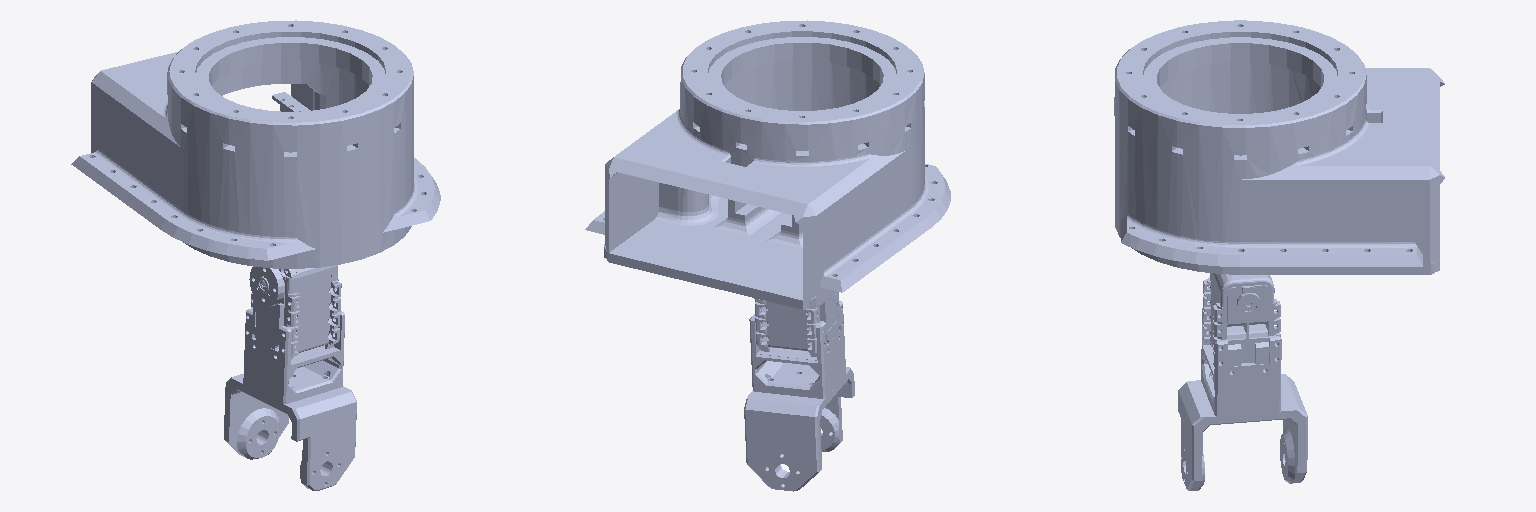
robot.urdf — simple_robot_v2:
<?xml version="1.0" encoding="utf-8"?>
<!-- This URDF was automatically created by SolidWorks to URDF Exporter! Originally created by [author] ([email redacted]) 
     Commit Version: 1.6.0-4-g7f85cfe  Build Version: 1.6.7995.38578
     For more information, please see http://wiki.ros.org/sw_urdf_exporter -->
<robot
  name="simple_robot_v2">
  <link
    name="FixedBase">
    <inertial>
      <origin
        xyz="-0.008662 6.915E-09 0.034203"
        rpy="0 0 0" />
      <mass
        value="0.49574" />
      <inertia
        ixx="0.0011079"
        ixy="1.4362E-10"
        ixz="-3.7324E-05"
        iyy="0.0011344"
        iyz="-8.7399E-11"
        izz="0.0016547" />
    </inertial>
    <visual>
      <origin
        xyz="0 0 0"
        rpy="0 0 0" />
      <geometry>
        <mesh
          filename="package://simple_robot_v2/meshes/FixedBase.STL" />
      </geometry>
      <material
        name="">
        <color
          rgba="0.79216 0.81961 0.93333 1" />
      </material>
    </visual>
    <collision>
      <origin
        xyz="0 0 0"
        rpy="0 0 0" />
      <geometry>
        <mesh
          filename="package://simple_robot_v2/meshes/FixedBase.STL" />
      </geometry>
    </collision>
  </link>
  <link
    name="RotatingBaseLink">
    <inertial>
      <origin
        xyz="-1.0615E-08 1.3952E-09 0.05044"
        rpy="0 0 0" />
      <mass
        value="0.24905" />
      <inertia
        ixx="0.00030195"
        ixy="6.1355E-07"
        ixz="2.7299E-11"
        iyy="0.0002068"
        iyz="4.0363E-11"
        izz="0.00019603" />
    </inertial>
    <visual>
      <origin
        xyz="0 0 0"
        rpy="0 0 0" />
      <geometry>
        <mesh
          filename="package://simple_robot_v2/meshes/RotatingBaseLink.STL" />
      </geometry>
      <material
        name="">
        <color
          rgba="0.50196 0.50196 1 1" />
      </material>
    </visual>
    <collision>
      <origin
        xyz="0 0 0"
        rpy="0 0 0" />
      <geometry>
        <mesh
          filename="package://simple_robot_v2/meshes/RotatingBaseLink.STL" />
      </geometry>
    </collision>
  </link>
  <joint
    name="RotatingBaseJoint"
    type="revolute">
    <origin
      xyz="0 0 0.05"
      rpy="0 0 0" />
    <parent
      link="FixedBase" />
    <child
      link="RotatingBaseLink" />
    <axis
      xyz="0 0 -1" />
    <limit
      lower="2.0944"
      upper="3.8397"
      effort="0"
      velocity="0" />
  </joint>
  <link
    name="ShoulderLink">
    <inertial>
      <origin
        xyz="1.5118E-06 0.13231 0.0003468"
        rpy="0 0 0" />
      <mass
        value="0.12701" />
      <inertia
        ixx="0.00076308"
        ixy="1.1682E-08"
        ixz="8.706E-09"
        iyy="0.00010667"
        iyz="-3.3149E-06"
        izz="0.00067538" />
    </inertial>
    <visual>
      <origin
        xyz="0 0 0"
        rpy="0 0 0" />
      <geometry>
        <mesh
          filename="package://simple_robot_v2/meshes/ShoulderLink.STL" />
      </geometry>
      <material
        name="">
        <color
          rgba="0.79216 0.81961 0.93333 1" />
      </material>
    </visual>
    <collision>
      <origin
        xyz="0 0 0"
        rpy="0 0 0" />
      <geometry>
        <mesh
          filename="package://simple_robot_v2/meshes/ShoulderLink.STL" />
      </geometry>
    </collision>
  </link>
  <joint
    name="ShoulderJoint"
    type="revolute">
    <origin
      xyz="0 0 0.049"
      rpy="1.5708 0 0.0064475" />
    <parent
      link="RotatingBaseLink" />
    <child
      link="ShoulderLink" />
    <axis
      xyz="0 0 1" />
    <limit
      lower="2.0944"
      upper="4.18879"
      effort="0"
      velocity="0" />
  </joint>
  <link
    name="ElbowLink">
    <inertial>
      <origin
        xyz="0.00036697 0.055834 -0.0004101"
        rpy="0 0 0" />
      <mass
        value="0.083206" />
      <inertia
        ixx="9.1587E-05"
        ixy="-1.7788E-06"
        ixz="-2.7941E-07"
        iyy="2.5642E-05"
        iyz="2.0881E-06"
        izz="8.5875E-05" />
    </inertial>
    <visual>
      <origin
        xyz="0 0 0"
        rpy="0 0 0" />
      <geometry>
        <mesh
          filename="package://simple_robot_v2/meshes/ElbowLink.STL" />
      </geometry>
      <material
        name="">
        <color
          rgba="0.79216 0.81961 0.93333 1" />
      </material>
    </visual>
    <collision>
      <origin
        xyz="0 0 0"
        rpy="0 0 0" />
      <geometry>
        <mesh
          filename="package://simple_robot_v2/meshes/ElbowLink.STL" />
      </geometry>
    </collision>
  </link>
  <joint
    name="ElbowJoint"
    type="revolute">
    <origin
      xyz="0 0.2247 0.00104"
      rpy="0 0 0" />
    <parent
      link="ShoulderLink" />
    <child
      link="ElbowLink" />
    <axis
      xyz="0 0 1" />
    <limit
      lower="1.309"
      upper="5.06145"
      effort="0"
      velocity="0" />
  </joint>
  <link
    name="WristLink">
    <inertial>
      <origin
        xyz="-0.010184 -0.0007354 0.034941"
        rpy="0 0 0" />
      <mass
        value="0.053757" />
      <inertia
        ixx="1.8975E-05"
        ixy="3.4773E-08"
        ixz="4.7677E-06"
        iyy="2.5817E-05"
        iyz="2.3142E-07"
        izz="1.7812E-05" />
    </inertial>
    <visual>
      <origin
        xyz="0 0 0"
        rpy="0 0 0" />
      <geometry>
        <mesh
          filename="package://simple_robot_v2/meshes/WristLink.STL" />
      </geometry>
      <material
        name="">
        <color
          rgba="0.9098 0.44314 0.031373 1" />
      </material>
    </visual>
    <collision>
      <origin
        xyz="0 0 0"
        rpy="0 0 0" />
      <geometry>
        <mesh
          filename="package://simple_robot_v2/meshes/WristLink.STL" />
      </geometry>
    </collision>
  </link>
  <joint
    name="WristJoint"
    type="revolute">
    <origin
      xyz="0.00108 0.0935 -0.001"
      rpy="1.5708 0 1.5708" />
    <parent
      link="ElbowLink" />
    <child
      link="WristLink" />
    <axis
      xyz="0 0 -1" />
    <limit
      lower="2.618"
      upper="4.5379"
      effort="0"
      velocity="0" />
  </joint>
  <link
    name="PenLink">
    <inertial>
      <origin
        xyz="0.048807 0.037513 -0.0021456"
        rpy="0 0 0" />
      <mass
        value="0.081357" />
      <inertia
        ixx="2.8223E-05"
        ixy="-3.704E-06"
        ixz="-2.8914E-06"
        iyy="0.00024631"
        iyz="5.6477E-07"
        izz="0.00024327" />
    </inertial>
    <visual>
      <origin
        xyz="0 0 0"
        rpy="0 0 0" />
      <geometry>
        <mesh
          filename="package://simple_robot_v2/meshes/PenLink.STL" />
      </geometry>
      <material
        name="">
        <color
          rgba="0.50196 1 0.50196 1" />
      </material>
    </visual>
    <collision>
      <origin
        xyz="0 0 0"
        rpy="0 0 0" />
      <geometry>
        <mesh
          filename="package://simple_robot_v2/meshes/PenLink.STL" />
      </geometry>
    </collision>
  </link>
  <joint
    name="PenJoint"
    type="revolute">
    <origin
      xyz="0 -0.001 0.041"
      rpy="1.5708 0 0" />
    <parent
      link="WristLink" />
    <child
      link="PenLink" />
    <axis
      xyz="0 0 1" />
    <limit
      lower="1.4835"
      upper="3.8397"
      effort="0"
      velocity="0" />
  </joint>
  <link
    name="PenTipLink">
    <inertial>
      <origin
        xyz="1.2388E-08 -1.5096E-08 -0.0095156"
        rpy="0 0 0" />
      <mass
        value="0.00038082" />
      <inertia
        ixx="6.068E-09"
        ixy="2.1976E-14"
        ixz="1.8806E-14"
        iyy="6.0679E-09"
        iyz="-2.2912E-14"
        izz="1.8923E-09" />
    </inertial>
    <visual>
      <origin
        xyz="0 0 0"
        rpy="0 0 0" />
      <geometry>
        <mesh
          filename="package://simple_robot_v2/meshes/PenTipLink.STL" />
      </geometry>
      <material
        name="">
        <color
          rgba="0.50196 1 0.50196 1" />
      </material>
    </visual>
    <collision>
      <origin
        xyz="0 0 0"
        rpy="0 0 0" />
      <geometry>
        <mesh
          filename="package://simple_robot_v2/meshes/PenTipLink.STL" />
      </geometry>
    </collision>
  </link>
  <joint
    name="PenTipJoint"
    type="continuous">
    <origin
      xyz="0.17403 0.0375 -0.00098"
      rpy="1.5708 -1.5643 1.5708" />
    <parent
      link="PenLink" />
    <child
      link="PenTipLink" />
    <axis
      xyz="-0.45244 0.63071 -0.63047" />
  </joint>
</robot>

--- Facts derived from the render (not from the file) ---
3 views of the same robot in one strip: view 1: azimuth 30°, elevation 25°; view 2: azimuth 150°, elevation 25°; view 3: azimuth 270°, elevation 25° (orthographic).
Model simple_robot_v2 with 7 links and 6 joints (5 revolute, 1 continuous), rooted at FixedBase, posed joints at zero except 5 at the middle of their limits (RotatingBaseJoint = 2.97, ShoulderJoint = 3.14, ElbowJoint = 3.19, WristJoint = 3.58, PenJoint = 2.66).
Visible links, largest first — view 1: FixedBase, ElbowLink; view 2: FixedBase, ElbowLink; view 3: FixedBase, ElbowLink.
Link boxes in pixels (left/top/right/bottom): FixedBase: left=71, top=20, right=440, bottom=268; ElbowLink: left=224, top=265, right=356, bottom=490; FixedBase: left=585, top=20, right=950, bottom=309; ElbowLink: left=744, top=292, right=854, bottom=491; FixedBase: left=1114, top=20, right=1444, bottom=274; ElbowLink: left=1178, top=273, right=1307, bottom=490.
Bounding box of the posed robot: 0.146 × 0.1574 × 0.2149 m (x, y, z).
2 mesh visuals loaded from 7 distinct referenced files (2 binary STL); not drawn: 5 (reference not matched to a file when rendering).